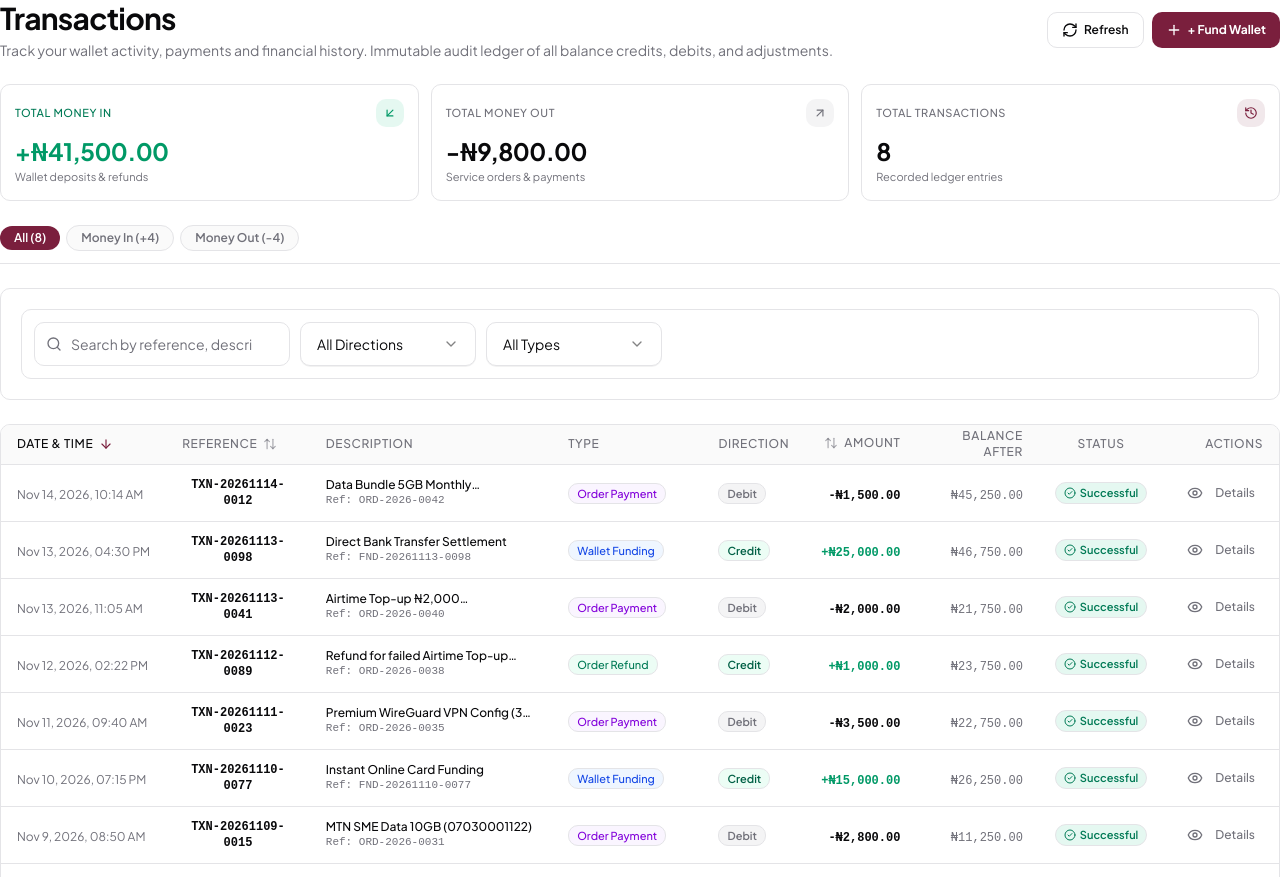
it: TransactionsView (F15.1 & F15.2) › opens transaction detail modal when a transaction row is selected
Click the button "TXN-20261114-0012".
click(238, 493)  # box [182,477,294,509]
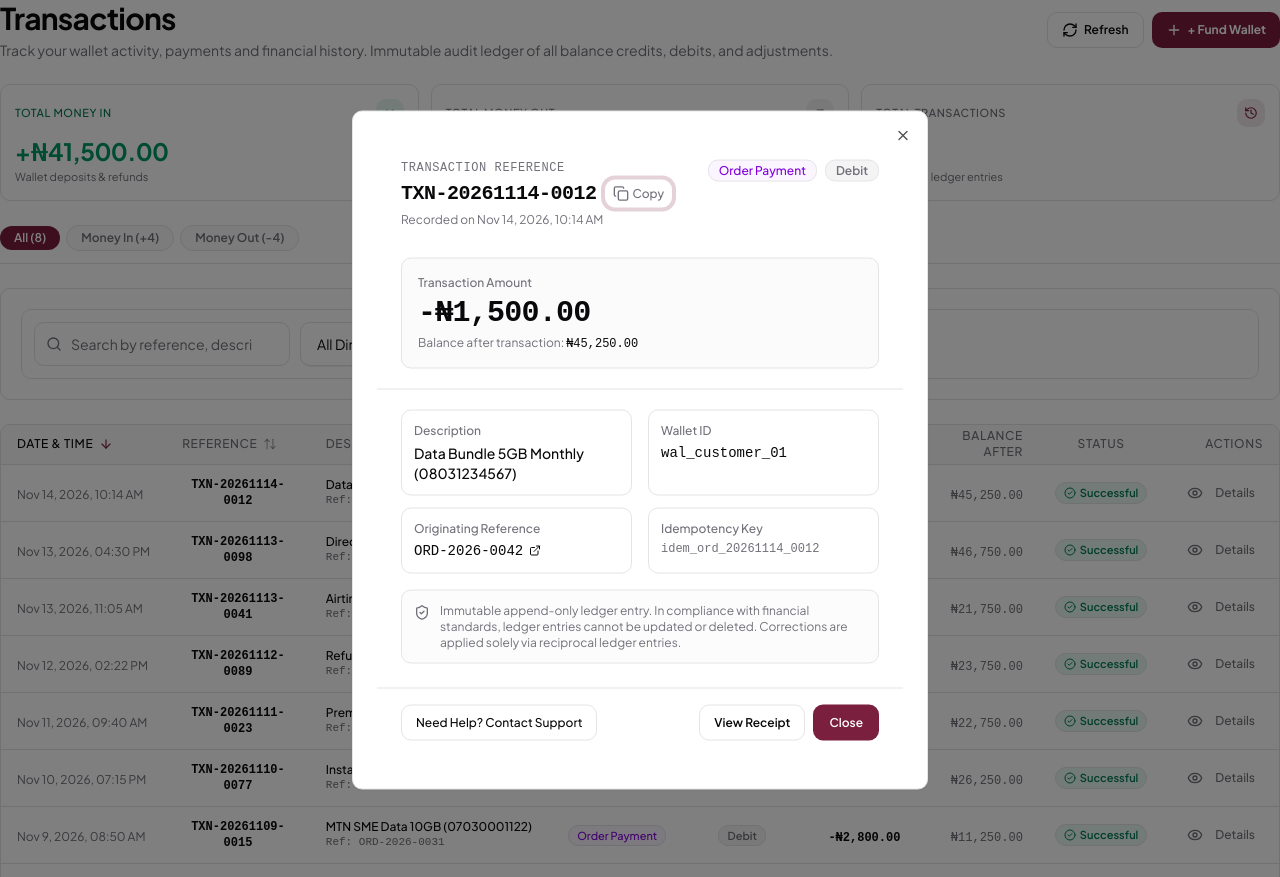
Expected: the dialog with test id "transaction-detail-modal" is shown, [352,110,928,790]
Expected: the text "Immutable append-only ledger entry" is shown, [440,602,848,650]
